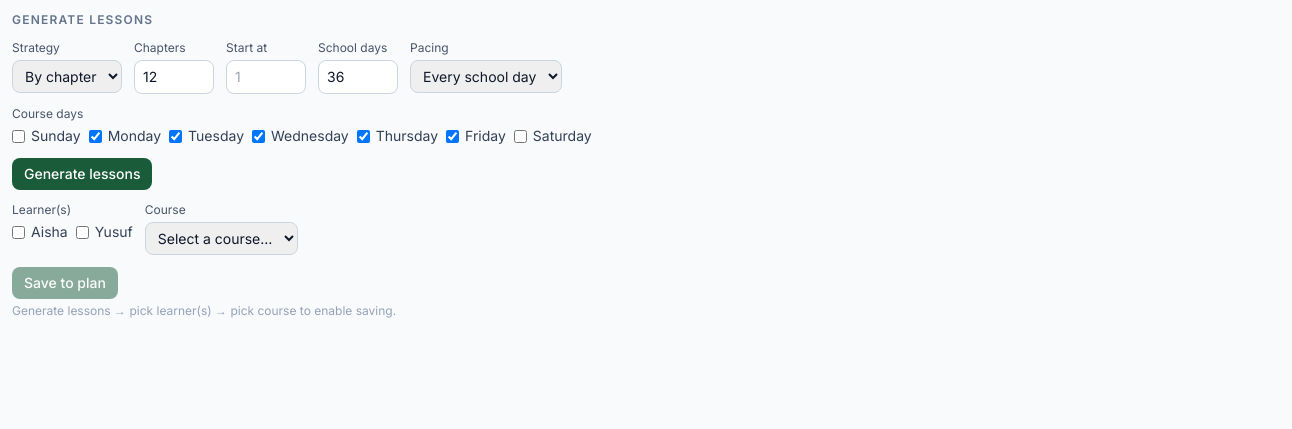
Scenario: LessonGenerationPanel — pacing control › shows an N input only when "Every N days" is selected, and passes cadence/cadenceDays to generateLessons
The image size is (1292, 429).
Later steps or results of the test are not shown.
Step 1. Select "Once a week" in the dropdown with test id "generation-pacing-select" → (486,76), box left=410, top=60, right=562, bottom=93
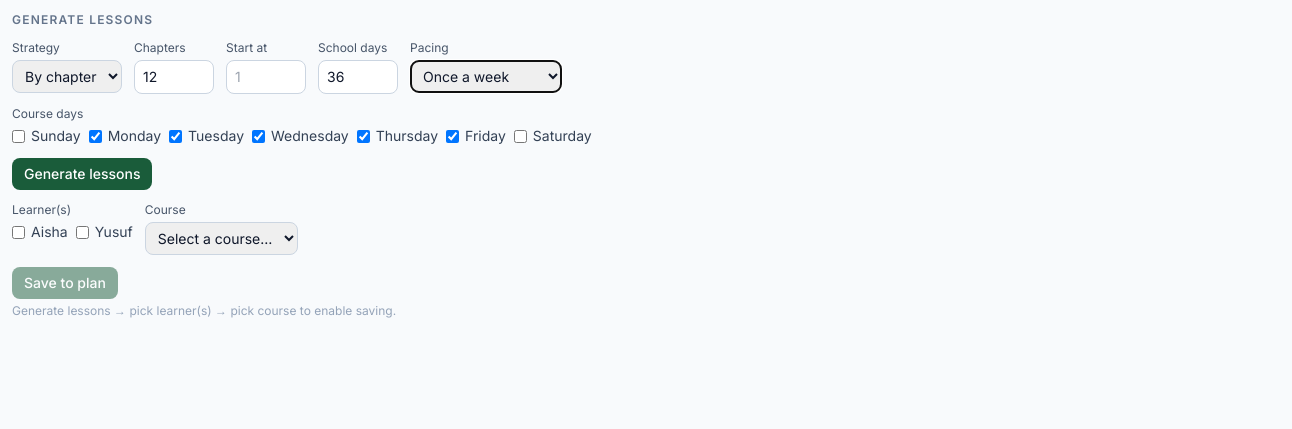
Step 2. Click the button with test id "generate-lessons-button" → (82,174), box left=12, top=158, right=152, bottom=190
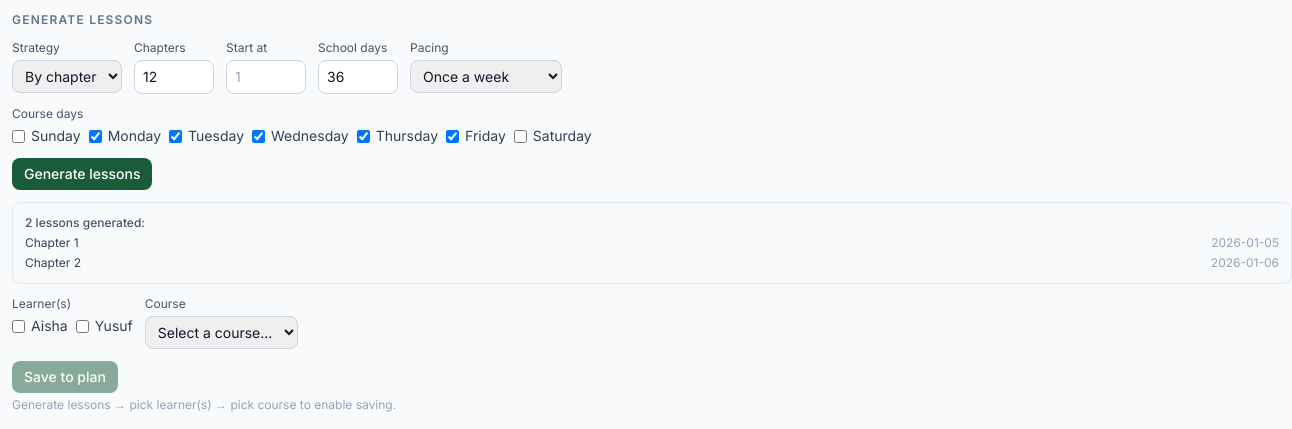
Step 3. Select "Every N days" in the dropdown with test id "generation-pacing-select" → (486,76), box left=410, top=60, right=562, bottom=93
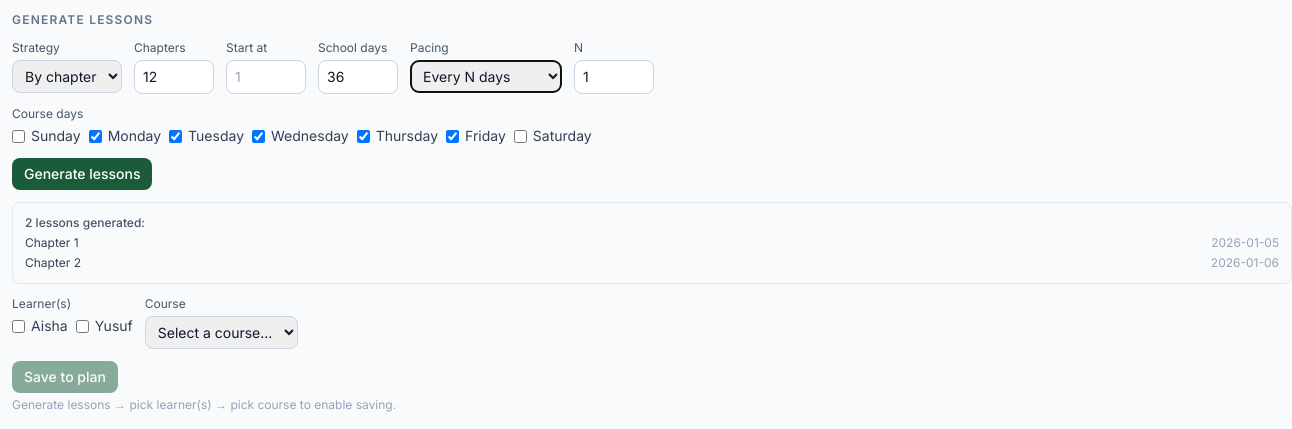
Expected: the number field with test id "generation-cadence-days-input" is shown, left=574, top=60, right=654, bottom=94
